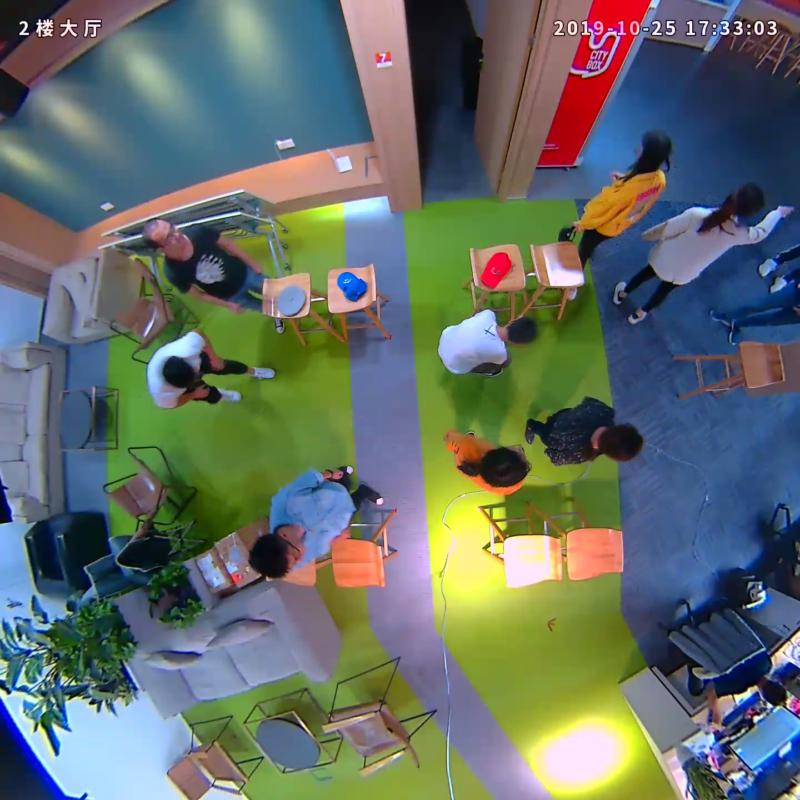head: (471, 439, 540, 495), (241, 529, 308, 582), (590, 415, 655, 469), (141, 212, 199, 257), (718, 177, 771, 224), (627, 125, 678, 170), (491, 313, 547, 350), (160, 353, 199, 395)
